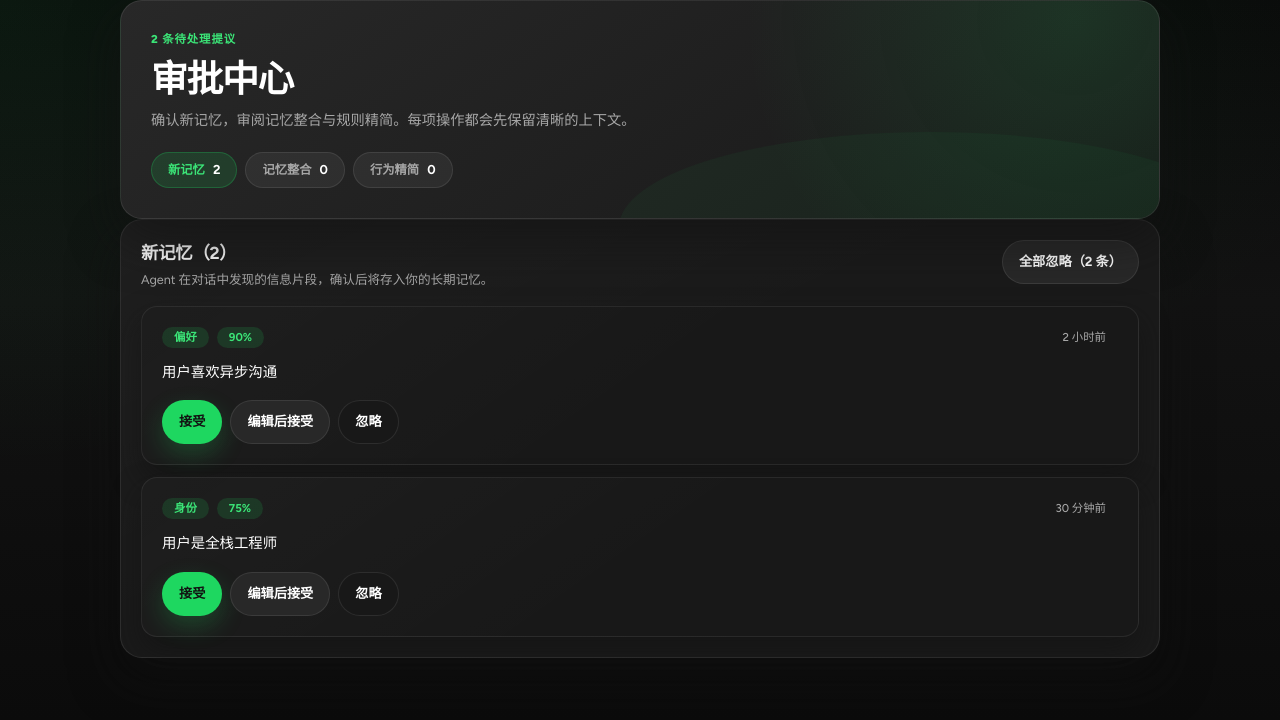
ApprovalCenterPage › memory 批量忽略后该分组清空
Expected: the text "用户喜欢异步沟通" is shown, top-left (162, 363), bottom-right (277, 381)
Click the button "全部忽略（2 条）" at (1070, 262), box top-left (1002, 240), bottom-right (1139, 284)
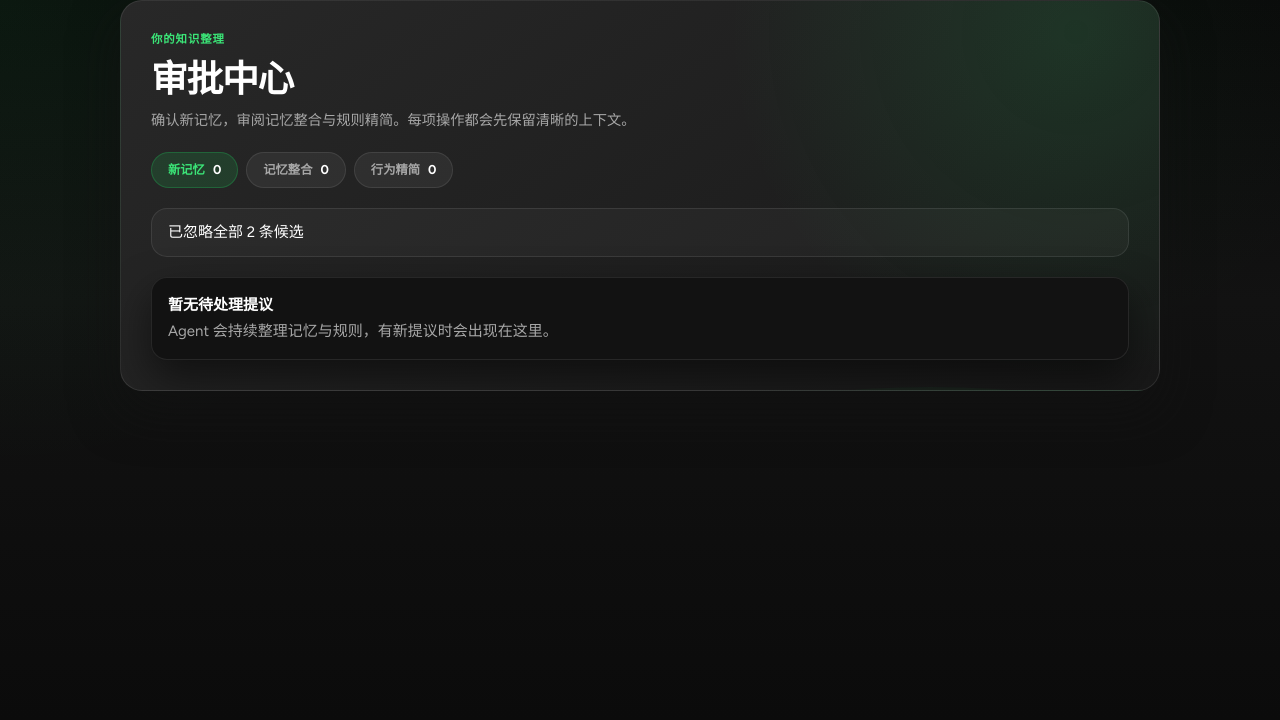
Expected: the text "用户喜欢异步沟通" is gone
Expected: the text "用户是全栈工程师" is gone
Expected: the text "暂无待处理提议" is shown, top-left (168, 296), bottom-right (273, 314)
